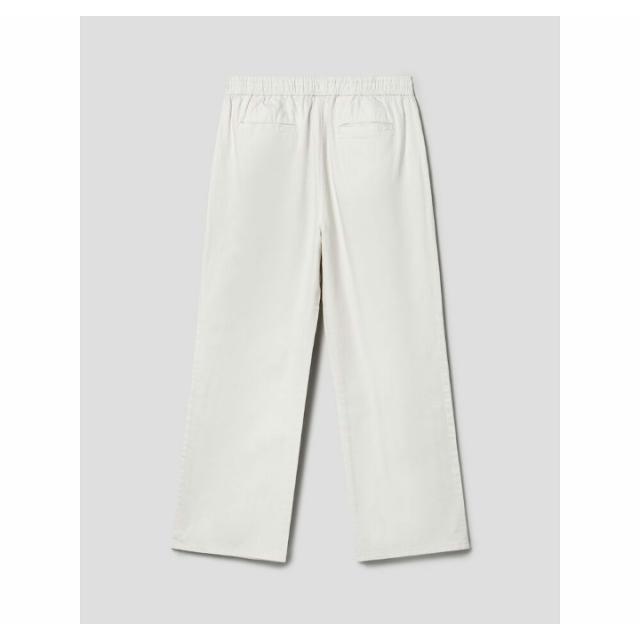long-pants: (166, 78, 476, 568)
